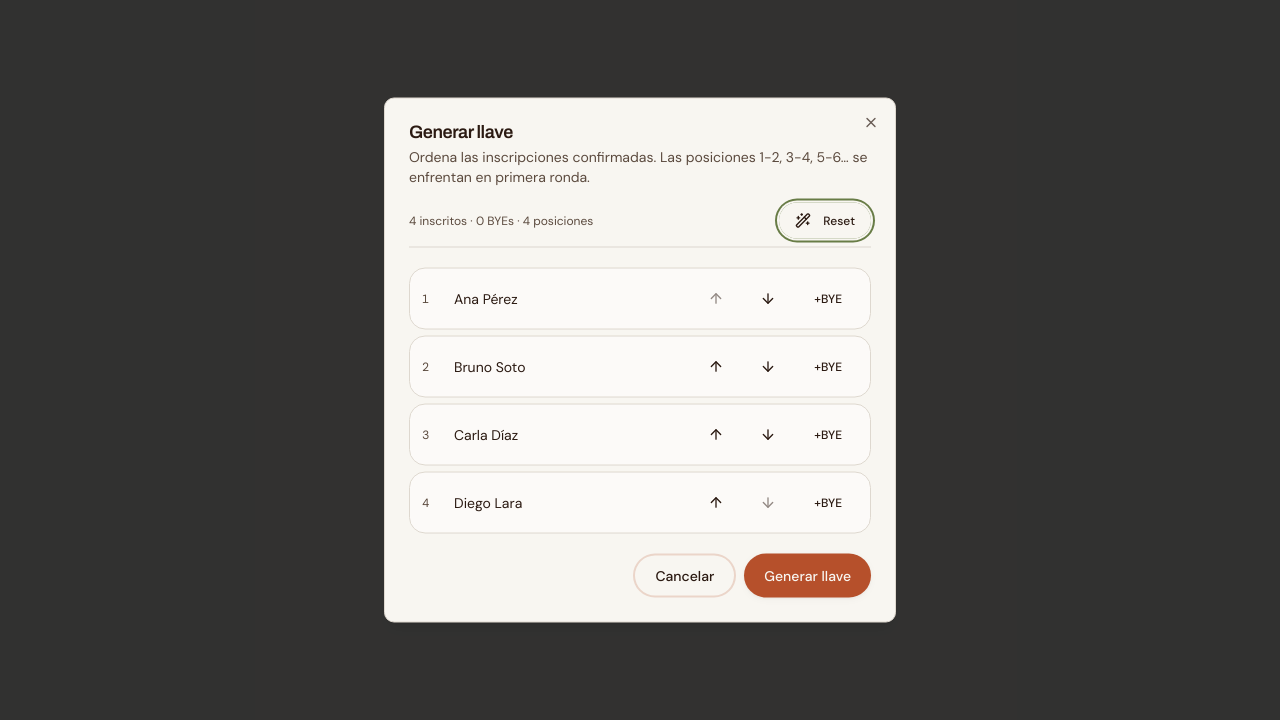
Test: Tournament E2E: SeedingDialog auto-scheduling (admin) › genera la llave y propone horarios automáticamente respetando canchas dedicadas
This screenshot has width=1280, height=720.
Check: the heading "Generar llave" is shown, box [409, 122, 513, 142]
Check: the text "Ana Pérez" is shown, box [454, 290, 518, 308]
Confirmar generación → debe llamar generate_bracket y luego cargar slots
Click the button "Generar llave" at coordinates (808, 576), box [744, 554, 871, 598]
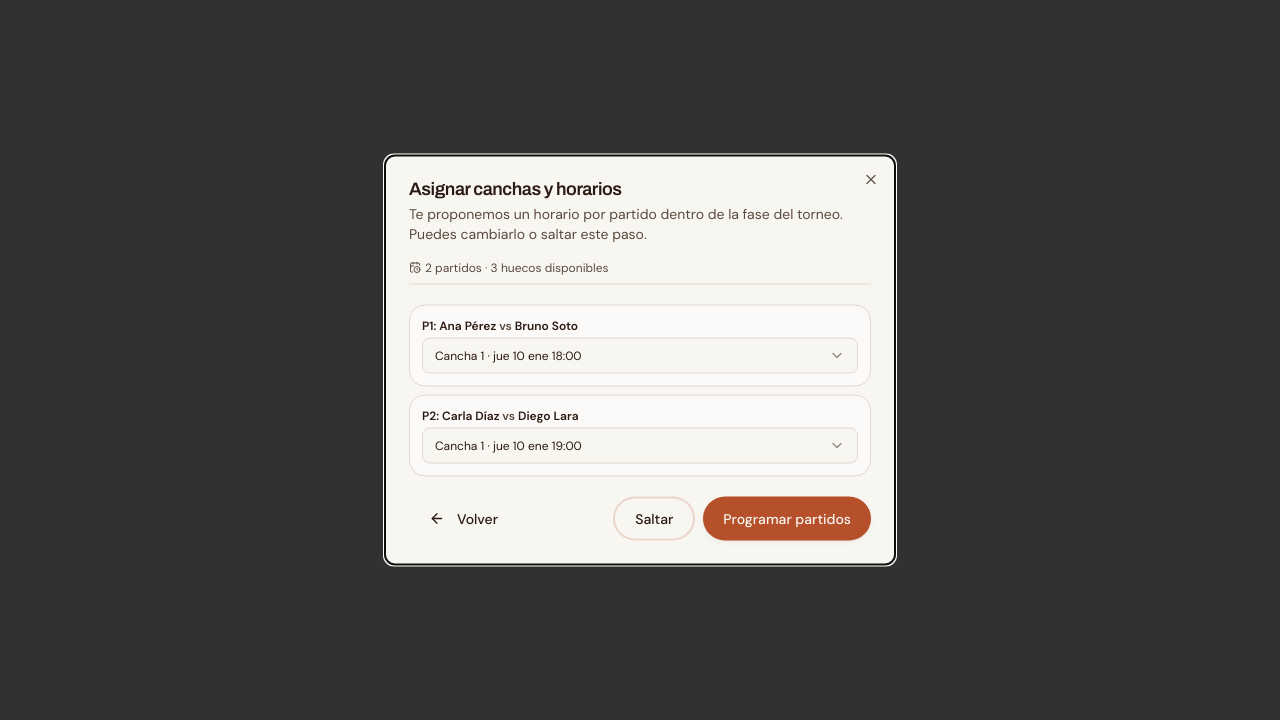
Check: the heading "Asignar canchas y horarios" is shown, box [409, 178, 622, 198]
